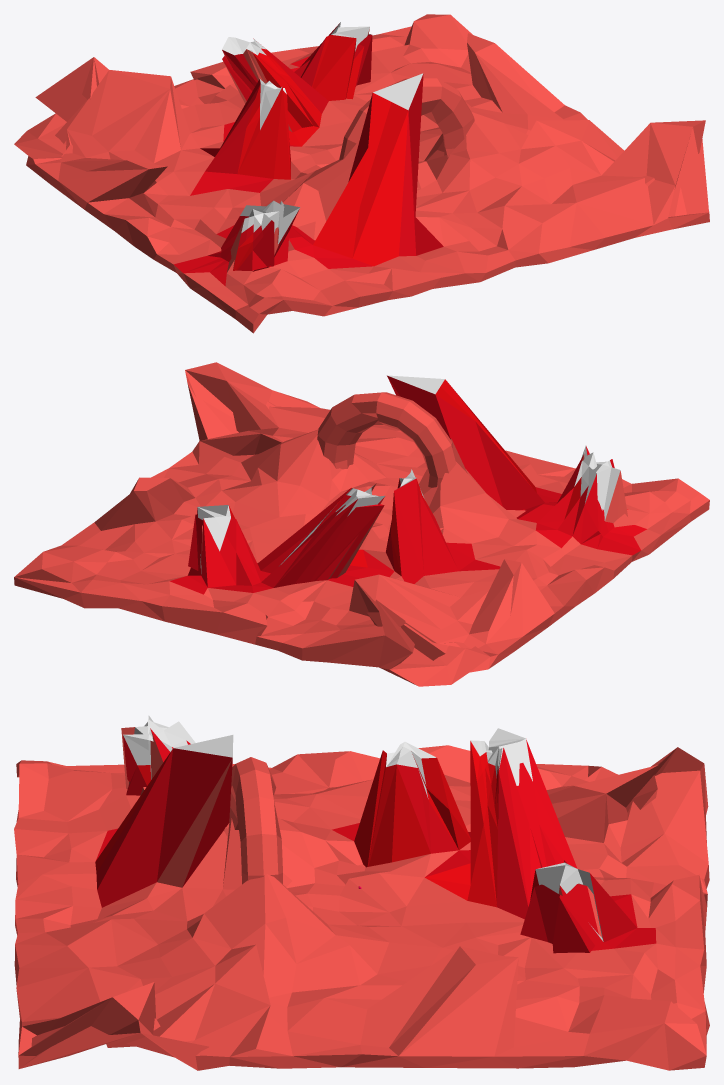
File: texture.fbx
3 views of the same model, one above another, from view 1: azimuth 30°, elevation 25°; view 2: azimuth 150°, elevation 25°; view 3: azimuth 270°, elevation 25° (orthographic). The views are drawn at different scales.
Visible parts, largest first — view 1: Plane, Torus.001; view 2: Plane, Torus.001; view 3: Plane, Torus.001.
Boxes of the visible parts, <box> form: Plane: <box>14,14,709,333</box>; Torus.001: <box>339,78,474,160</box>; Plane: <box>14,362,709,686</box>; Torus.001: <box>317,392,456,487</box>; Plane: <box>14,716,709,1070</box>; Torus.001: <box>229,757,282,884</box>.
Bounding box in the file's own units: 2194 × 650 × 2019.
